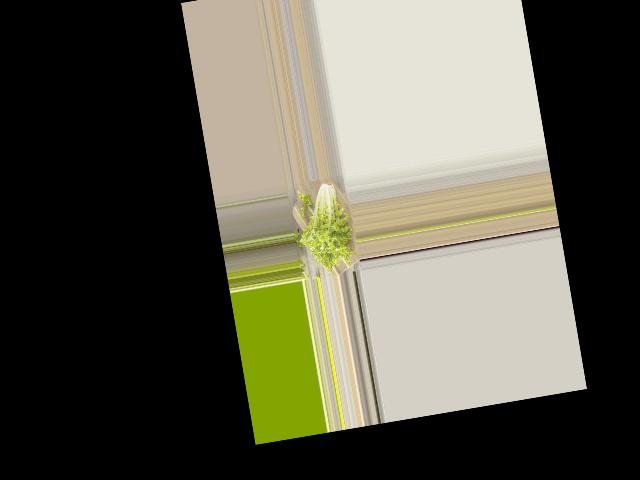lettuce: (291, 175, 357, 272)
